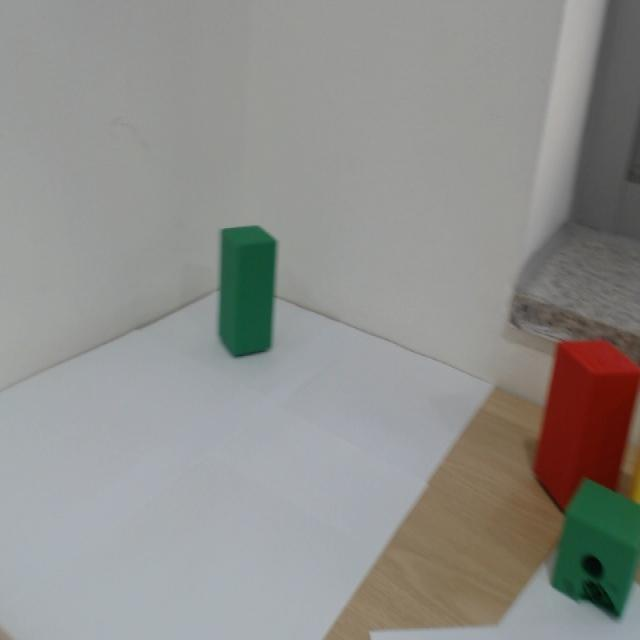cube: (198, 191, 307, 409)
